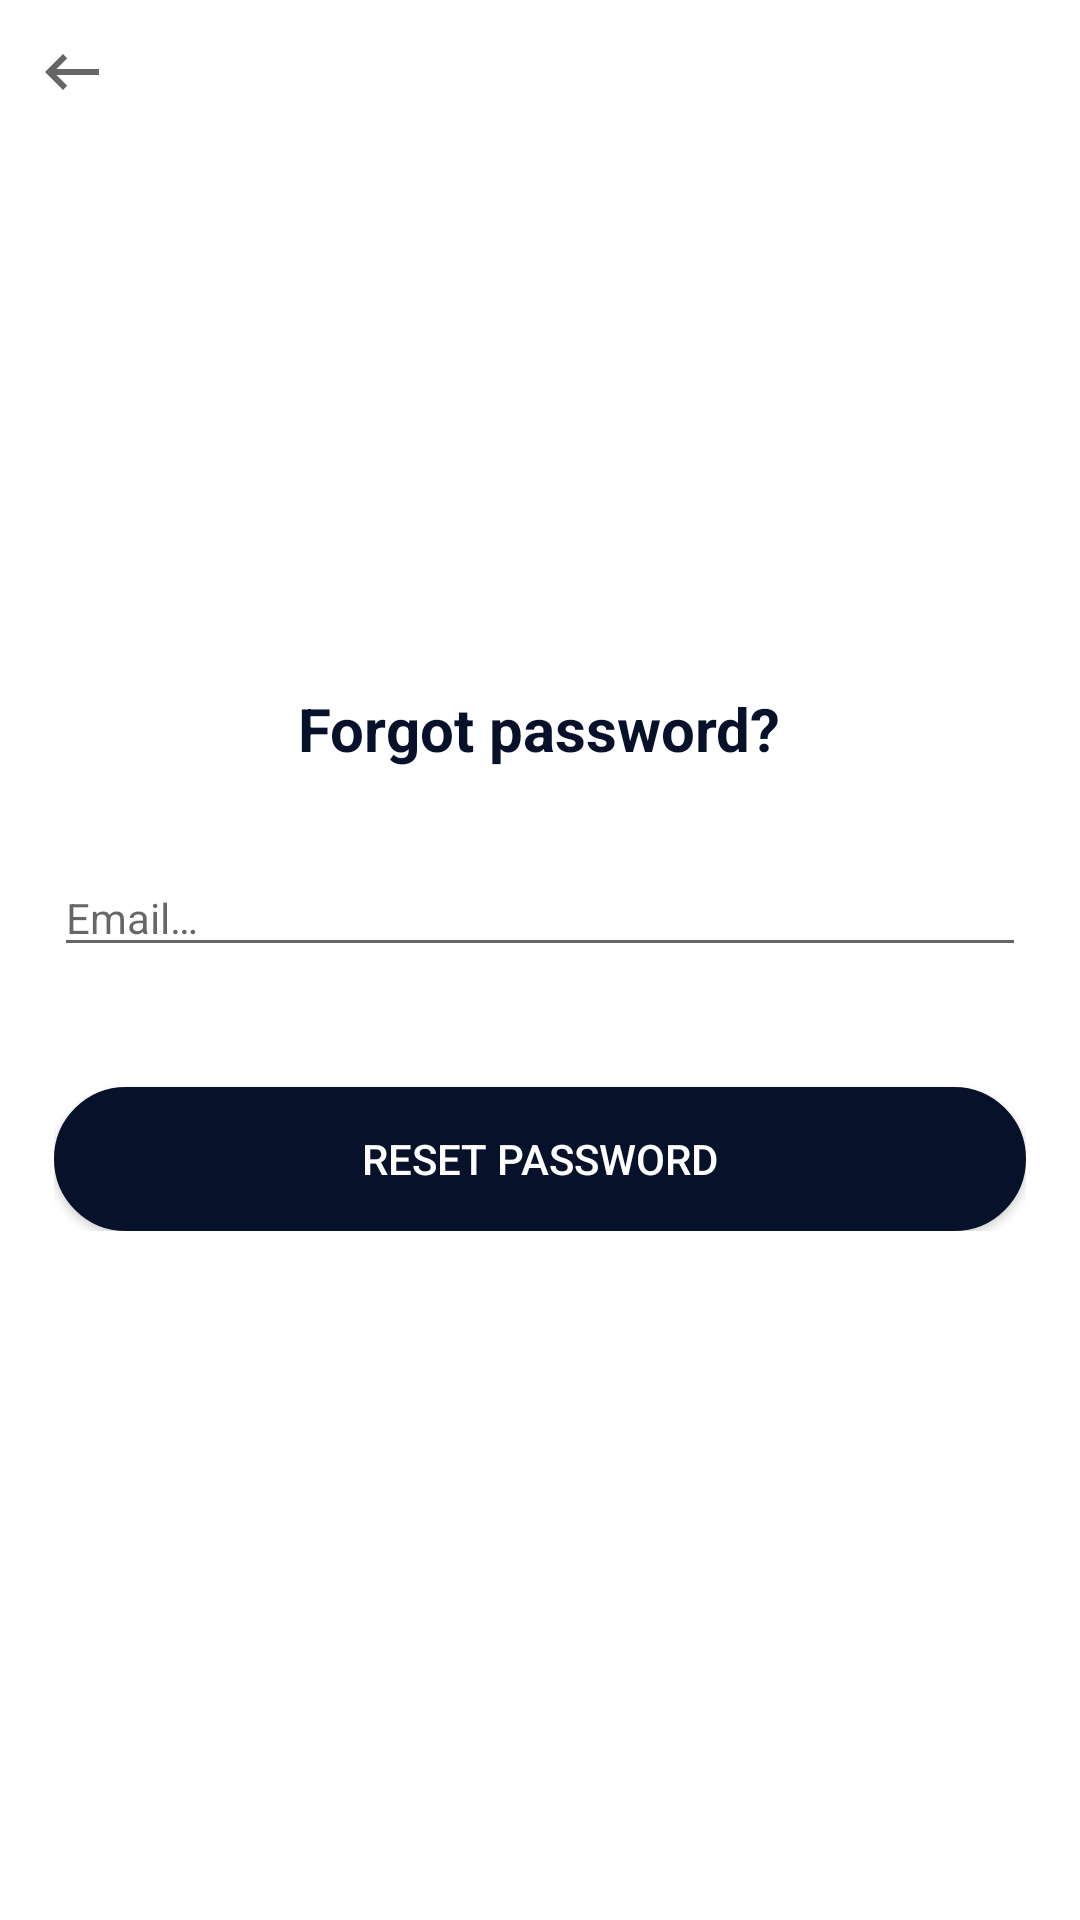

Icon bounding boxes for this 1080px x 1920px phone screenshot, format (x1, y1, x2, y2):
back: (45, 54, 99, 90)
